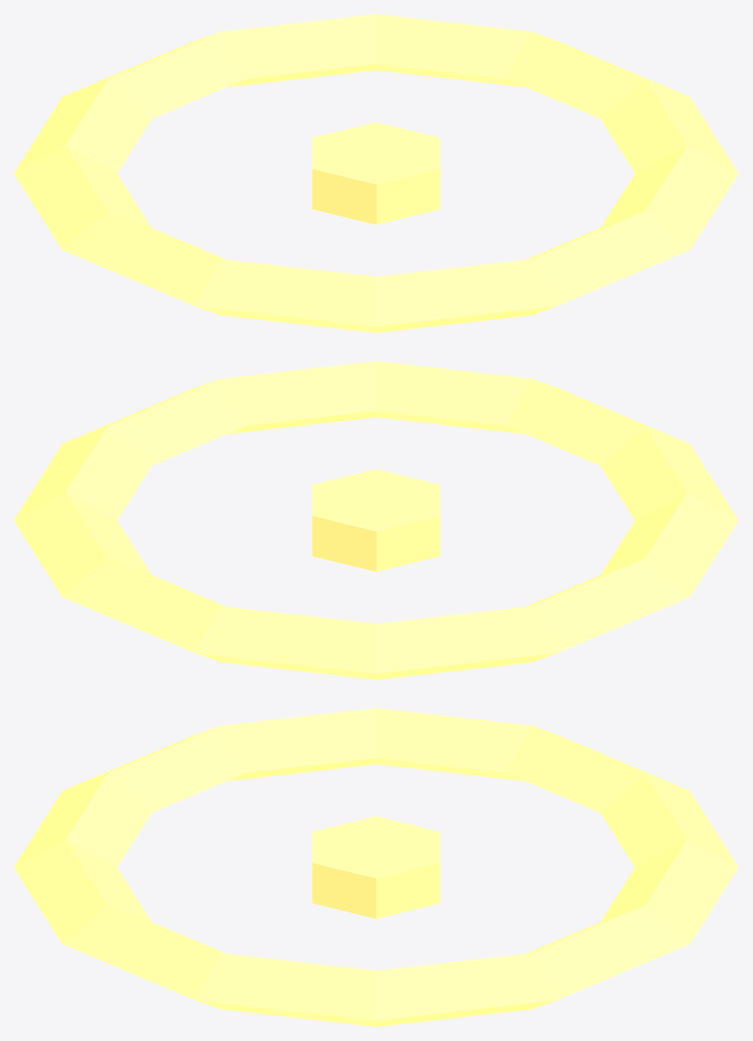
The model's file is marker.glb.
The picture shows the model from 3 angles, top to bottom: view 1: azimuth 30°, elevation 25°; view 2: azimuth 150°, elevation 25°; view 3: azimuth 270°, elevation 25°; orthographic projection.
Visible parts, largest first — view 1: Ring; view 2: Ring; view 3: Ring.
Part boxes in pixels (x1,y1,x2,y2): Ring: (14,14,738,332); Ring: (14,361,738,679); Ring: (14,708,738,1026).
Bounding box in the file's own units: 0.98 × 0.084 × 0.98.
